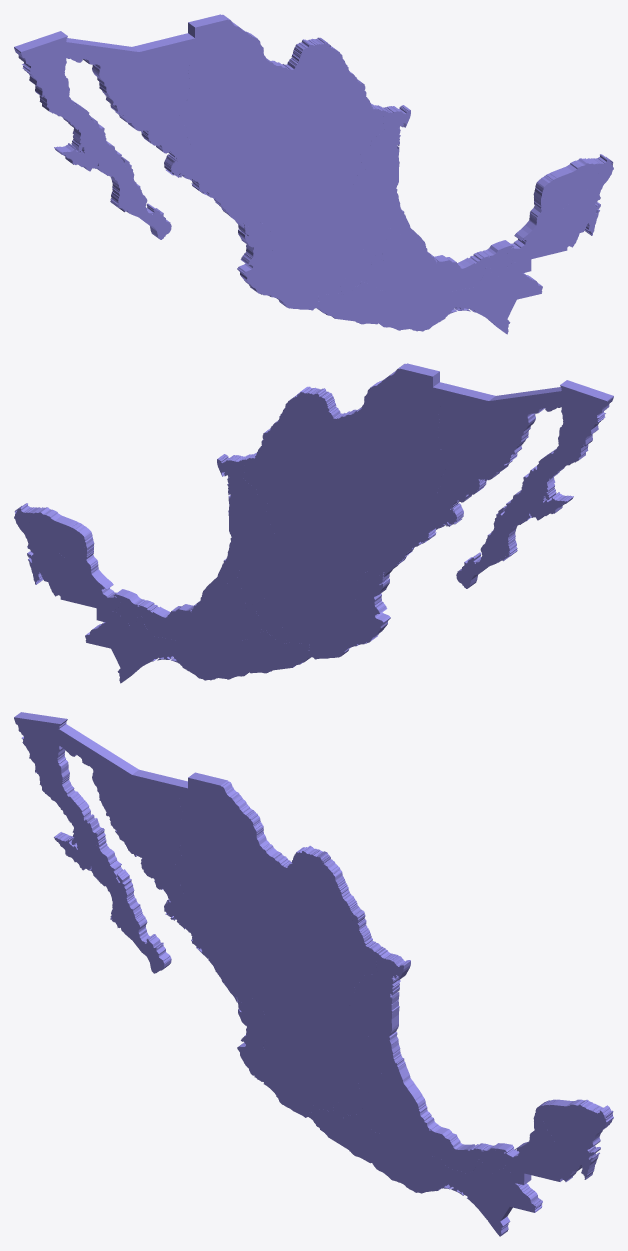
File: mexico.glb
The picture shows the model from 3 angles, top to bottom: view 1: azimuth 30°, elevation 25°; view 2: azimuth 150°, elevation 25°; view 3: azimuth 330°, elevation 25°; orthographic projection.
Visible parts, largest first — view 1: Chihuahua, Sonora, Coahuila, Durango, Baja California, Baja California Sur, Tamaulipas, Oaxaca, Jalisco, Zacatecas, Veracruz, Campeche (+15 smaller); view 2: Chihuahua, Sonora, Coahuila, Durango, Baja California, Baja California Sur, Tamaulipas, Oaxaca, Jalisco, Zacatecas, Veracruz, Campeche (+15 smaller); view 3: Chihuahua, Sonora, Coahuila, Durango, Baja California, Tamaulipas, Baja California Sur, Veracruz, Oaxaca, Chiapas, Zacatecas, Jalisco (+14 smaller).
Part boxes in pixels (left/top/right/bottom): Chihuahua: left=177, top=14, right=288, bottom=164; Sonora: left=62, top=36, right=192, bottom=158; Coahuila: left=276, top=37, right=358, bottom=164; Durango: left=213, top=124, right=305, bottom=226; Baja California: left=14, top=31, right=106, bottom=145; Baja California Sur: left=54, top=139, right=171, bottom=239; Tamaulipas: left=353, top=79, right=410, bottom=199; Oaxaca: left=384, top=268, right=474, bottom=331; Jalisco: left=237, top=215, right=324, bottom=294; Zacatecas: left=270, top=153, right=338, bottom=249; Veracruz: left=380, top=193, right=479, bottom=290; Campeche: left=495, top=187, right=569, bottom=260; Chihuahua: left=339, top=363, right=450, bottom=513; Sonora: left=435, top=385, right=565, bottom=507; Coahuila: left=269, top=386, right=351, bottom=513; Durango: left=322, top=473, right=414, bottom=575; Baja California: left=521, top=380, right=613, bottom=494; Baja California Sur: left=456, top=488, right=573, bottom=588; Tamaulipas: left=217, top=428, right=274, bottom=548; Oaxaca: left=153, top=617, right=243, bottom=680; Jalisco: left=303, top=564, right=390, bottom=643; Zacatecas: left=289, top=502, right=357, bottom=598; Veracruz: left=148, top=542, right=247, bottom=639; Campeche: left=58, top=536, right=132, bottom=609; Chihuahua: left=172, top=772, right=288, bottom=927; Sonora: left=54, top=724, right=185, bottom=900; Coahuila: left=269, top=845, right=358, bottom=979; Durango: left=206, top=903, right=298, bottom=1011; Baja California: left=14, top=712, right=106, bottom=846; Tamaulipas: left=346, top=909, right=410, bottom=1045; Baja California Sur: left=54, top=832, right=171, bottom=973; Veracruz: left=373, top=1037, right=472, bottom=1173; Oaxaca: left=376, top=1129, right=467, bottom=1195; Chiapas: left=462, top=1159, right=542, bottom=1236; Zacatecas: left=263, top=958, right=331, bottom=1045; Jalisco: left=237, top=1007, right=317, bottom=1090.
Size of the model in its own units: 4.8 by 3.14 by 0.1.
